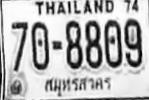0: (32, 21, 50, 70), (104, 19, 121, 67)
7: (12, 21, 28, 70)
8: (85, 19, 101, 68), (66, 20, 82, 68)
9: (124, 18, 142, 67)
SKN: (40, 74, 113, 97)
